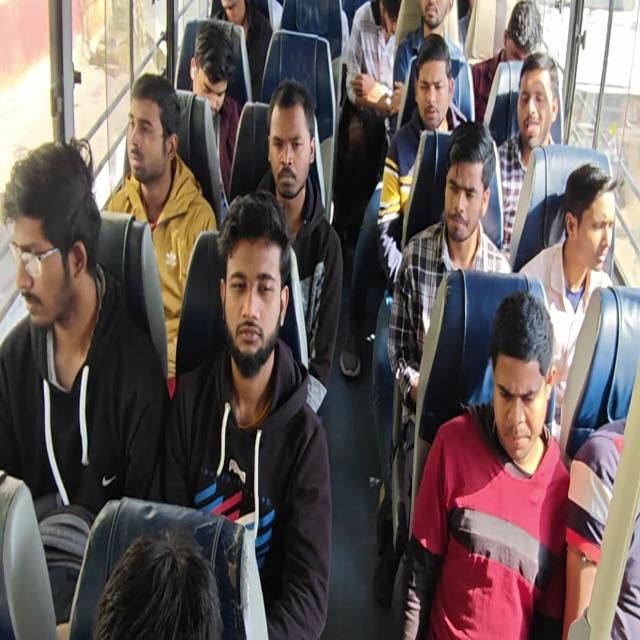person: (101, 529, 236, 640), (5, 165, 94, 322), (480, 322, 551, 467), (228, 228, 282, 360), (566, 171, 620, 276), (272, 93, 310, 196), (442, 137, 480, 238), (511, 59, 553, 148), (177, 40, 236, 103), (124, 98, 167, 182), (503, 9, 538, 66), (415, 70, 446, 128), (371, 0, 410, 36), (418, 0, 450, 36), (213, 0, 248, 18)
